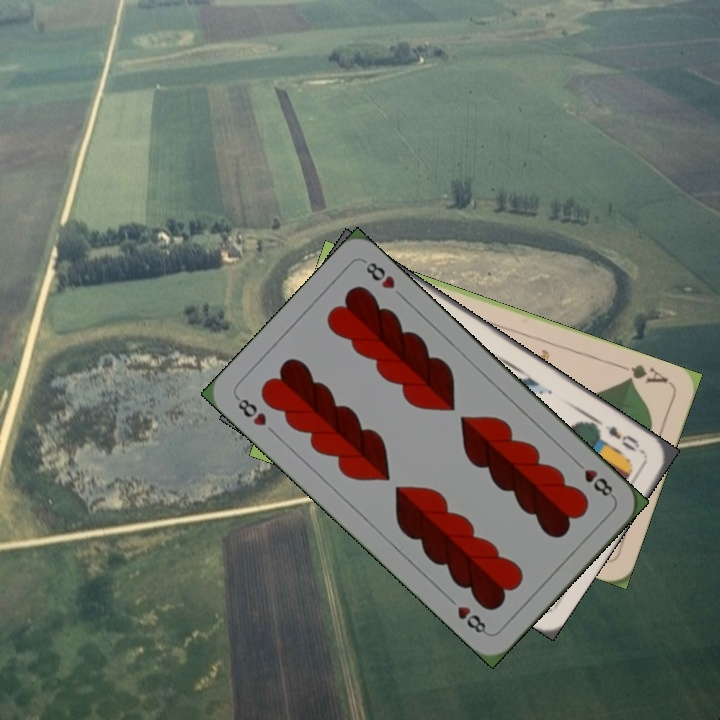EO: (601, 421, 647, 457)
GA: (614, 360, 671, 386)
H8: (570, 456, 617, 501), (231, 392, 269, 429)
